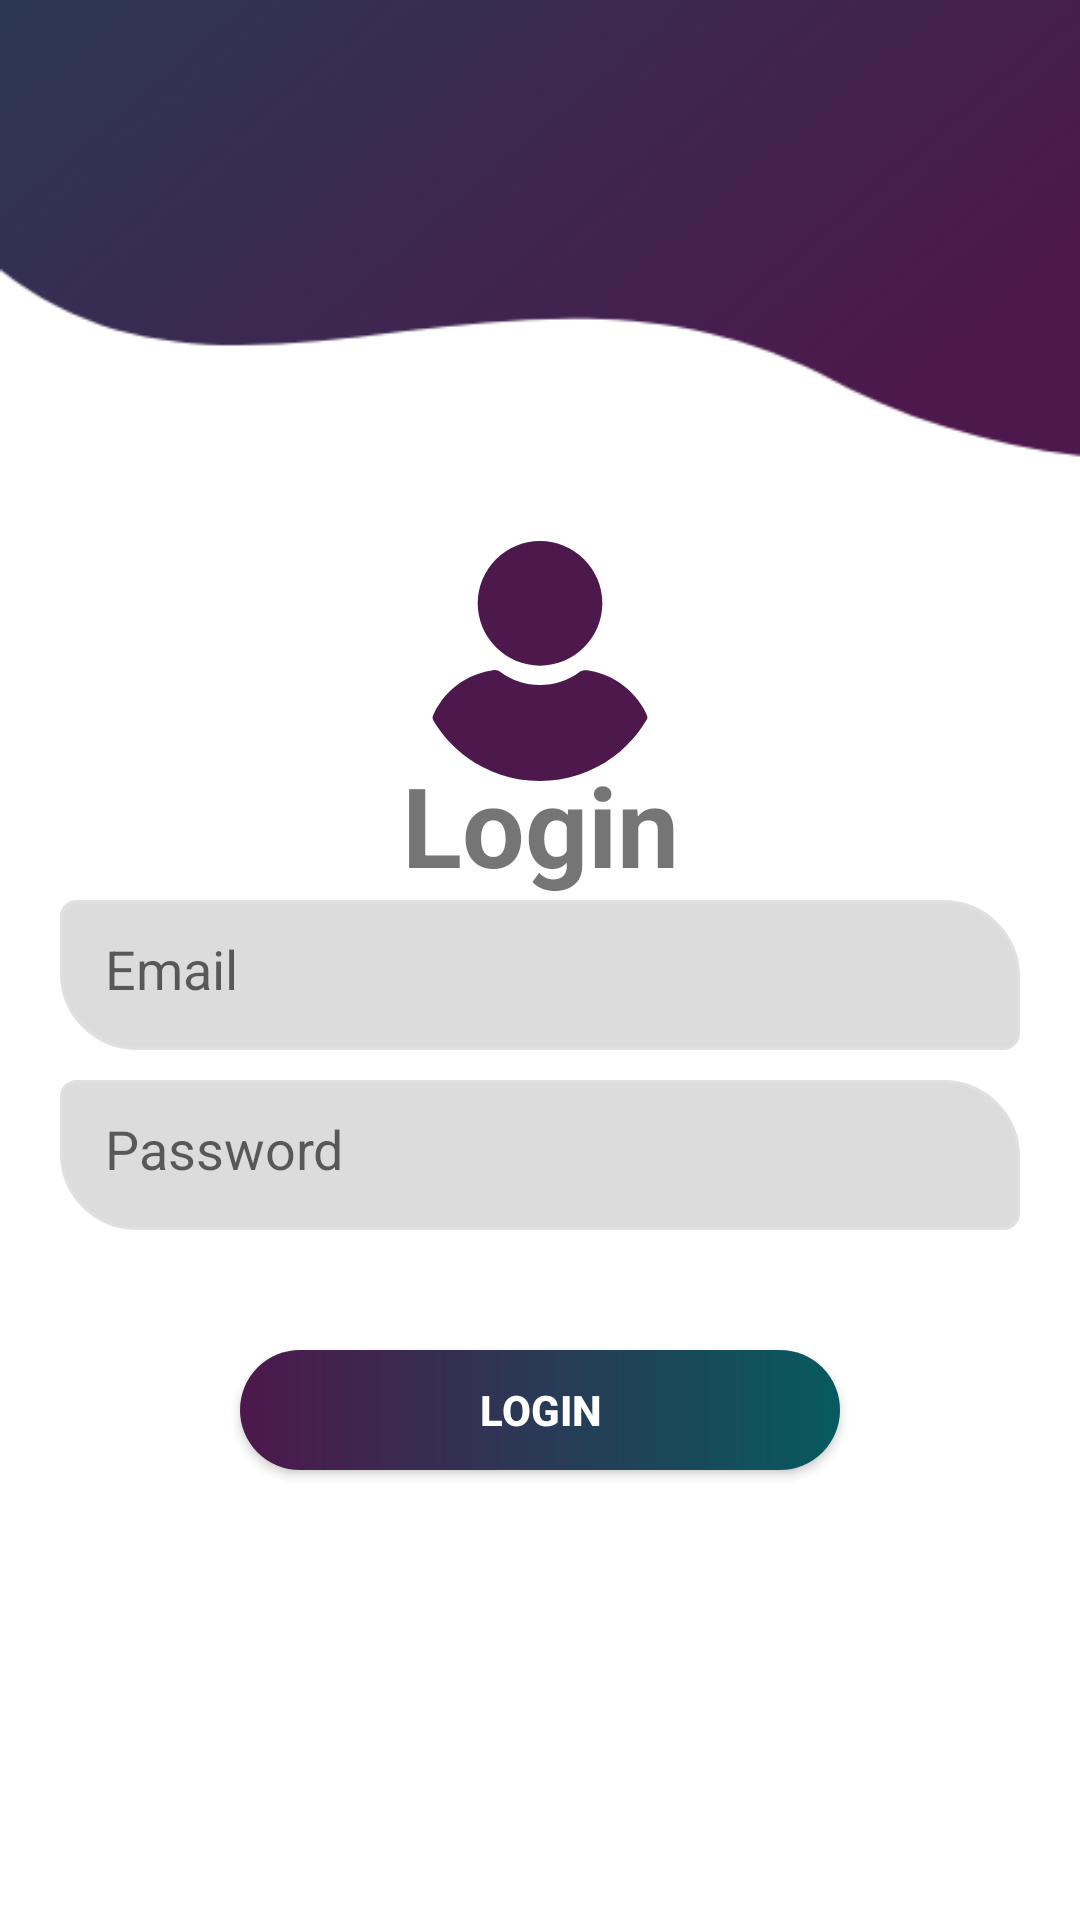

Named icons in this screenshot (1080 x 1920) and their centers, point (x, y):
user: point (540, 661)
